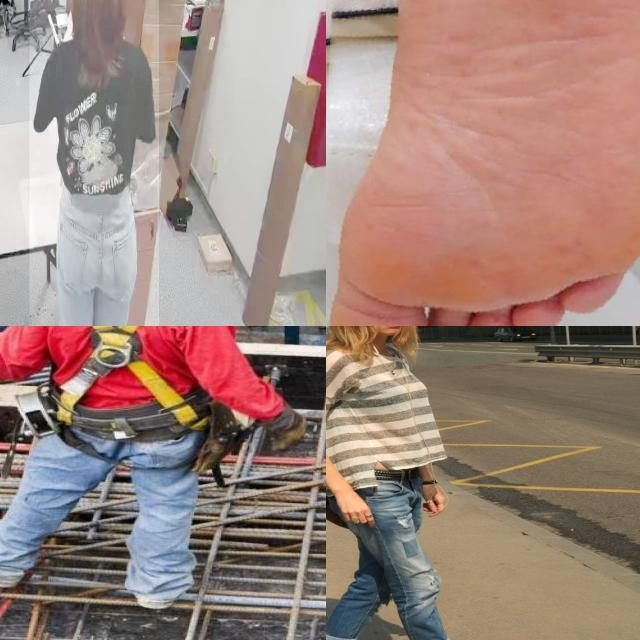Barefoots: (326, 0, 640, 326)
Harness: (58, 326, 198, 428)
person: (29, 0, 159, 326)
